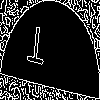T: (25, 24, 47, 75)
